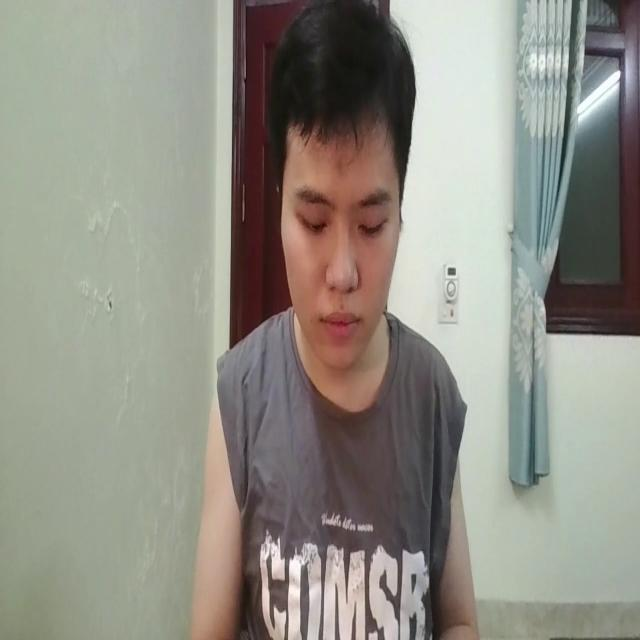student: (189, 1, 476, 640)
